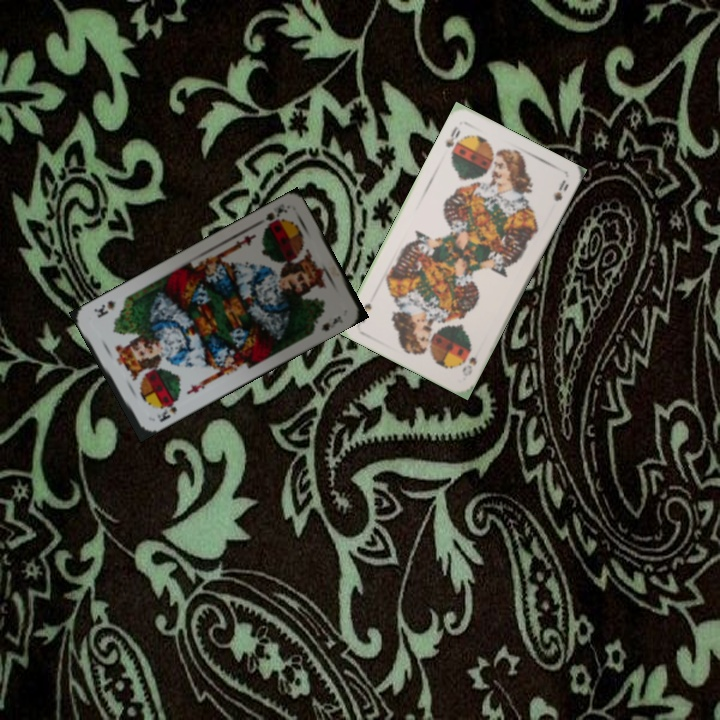SK: (259, 203, 290, 231), (153, 396, 180, 425)
SO: (458, 343, 479, 379), (441, 122, 463, 150)
